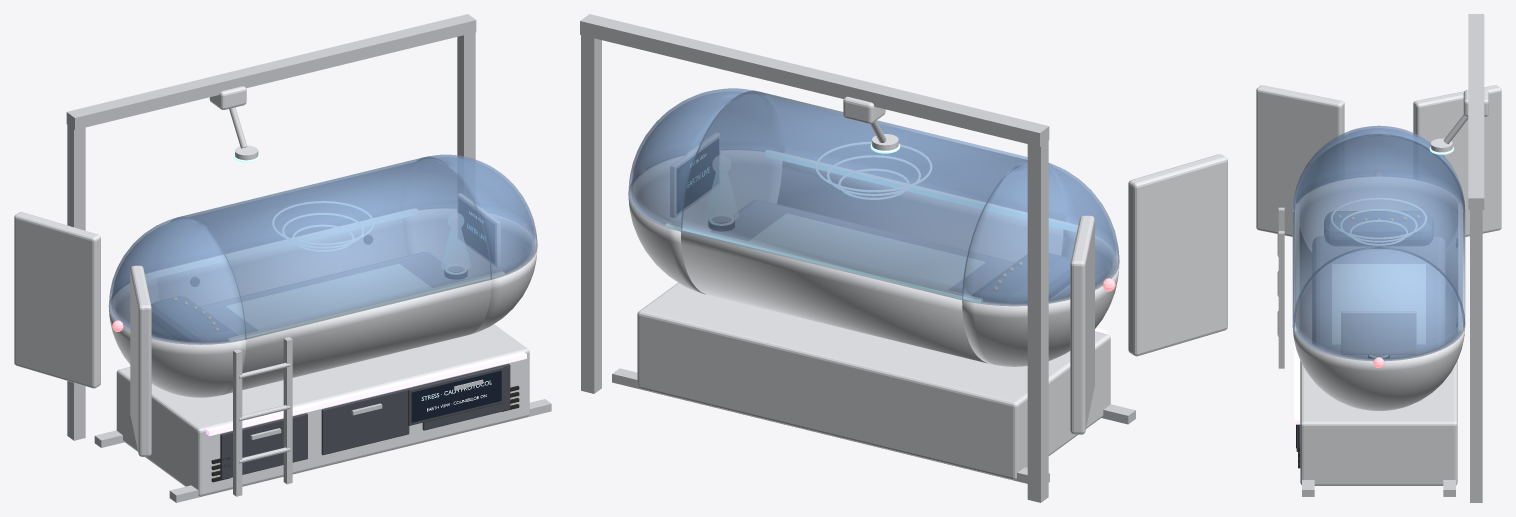
Rendered from recovery_pod_stress.glb.
The picture shows the model from 3 angles, left to right: view 1: azimuth 30°, elevation 25°; view 2: azimuth 150°, elevation 25°; view 3: azimuth 270°, elevation 25°; orthographic projection. The views are drawn at different scales.
Visible parts, largest first — view 1: Smart_Canopy, Pod_Shell, Pod_Base, Privacy_Wing.001, Gantry_Beam, Sleep_Sensor_Mat, Storage_Drawer.001, Privacy_Wing, Gantry_Post, Mattress, Storage_Drawer, Status_Display_Panel (+14 smaller); view 2: Smart_Canopy, Pod_Base, Pod_Shell, Privacy_Wing, Gantry_Beam, Gantry_Post, Gantry_Post.001, Sleep_Sensor_Mat, Privacy_Wing.001, Mattress, EEG_Headrest, Circadian_Strip (+6 smaller); view 3: Smart_Canopy, Pod_Shell, Pod_Base, Privacy_Wing, Mattress, Privacy_Wing.001, Sleep_Sensor_Mat, Gantry_Post.001, Foot_Screen_Bezel, Gantry_Beam, EEG_Headrest, Ladder_Rail.001 (+6 smaller).
Part boxes in pixels (box(x1,y1,x2,y2)): Smart_Canopy: box(108, 154, 537, 344); Pod_Shell: box(108, 208, 537, 397); Pod_Base: box(116, 324, 529, 496); Privacy_Wing.001: box(14, 212, 100, 388); Gantry_Beam: box(66, 14, 476, 129); Sleep_Sensor_Mat: box(226, 264, 431, 330); Storage_Drawer.001: box(321, 388, 409, 455); Privacy_Wing: box(130, 265, 151, 456); Gantry_Post: box(67, 119, 85, 440); Mattress: box(152, 252, 465, 339); Storage_Drawer: box(220, 413, 307, 479); Status_Display_Panel: box(411, 370, 501, 422); Smart_Canopy: box(628, 88, 1119, 306); Pod_Base: box(637, 282, 1110, 479); Pod_Shell: box(628, 150, 1119, 366); Privacy_Wing: box(1128, 154, 1227, 356); Gantry_Beam: box(580, 14, 1049, 146); Gantry_Post: box(1027, 134, 1048, 502); Gantry_Post.001: box(581, 35, 601, 393); Sleep_Sensor_Mat: box(749, 214, 984, 289); Privacy_Wing.001: box(1070, 215, 1094, 434); Mattress: box(710, 200, 1069, 299); EEG_Headrest: box(972, 253, 1070, 302); Circadian_Strip: box(765, 150, 1077, 232); Smart_Canopy: box(1292, 125, 1465, 361); Pod_Shell: box(1292, 176, 1465, 410); Pod_Base: box(1300, 360, 1457, 485); Privacy_Wing: box(1256, 85, 1344, 236); Mattress: box(1312, 236, 1445, 357); Privacy_Wing.001: box(1413, 85, 1501, 236); Sleep_Sensor_Mat: box(1332, 264, 1425, 344); Gantry_Post.001: box(1470, 204, 1482, 502); Foot_Screen_Bezel: box(1341, 311, 1416, 354); Gantry_Beam: box(1468, 14, 1484, 209); EEG_Headrest: box(1324, 211, 1433, 245); Ladder_Rail.001: box(1278, 231, 1284, 368).
Bounding box in the file's own units: 3.16 × 2.14 × 1.56.
